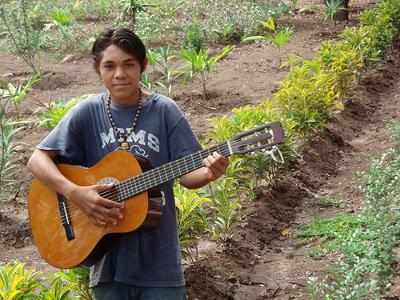person: (26, 27, 230, 300)
